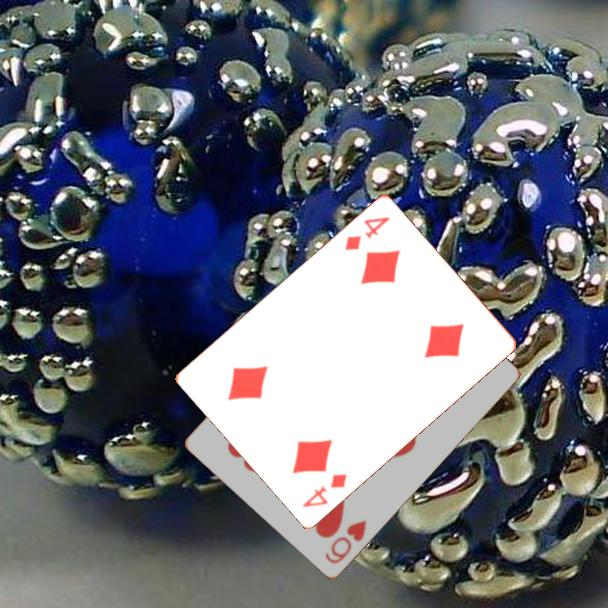d04: (299, 469, 350, 510), (341, 213, 393, 253)
h06: (321, 516, 370, 566)
